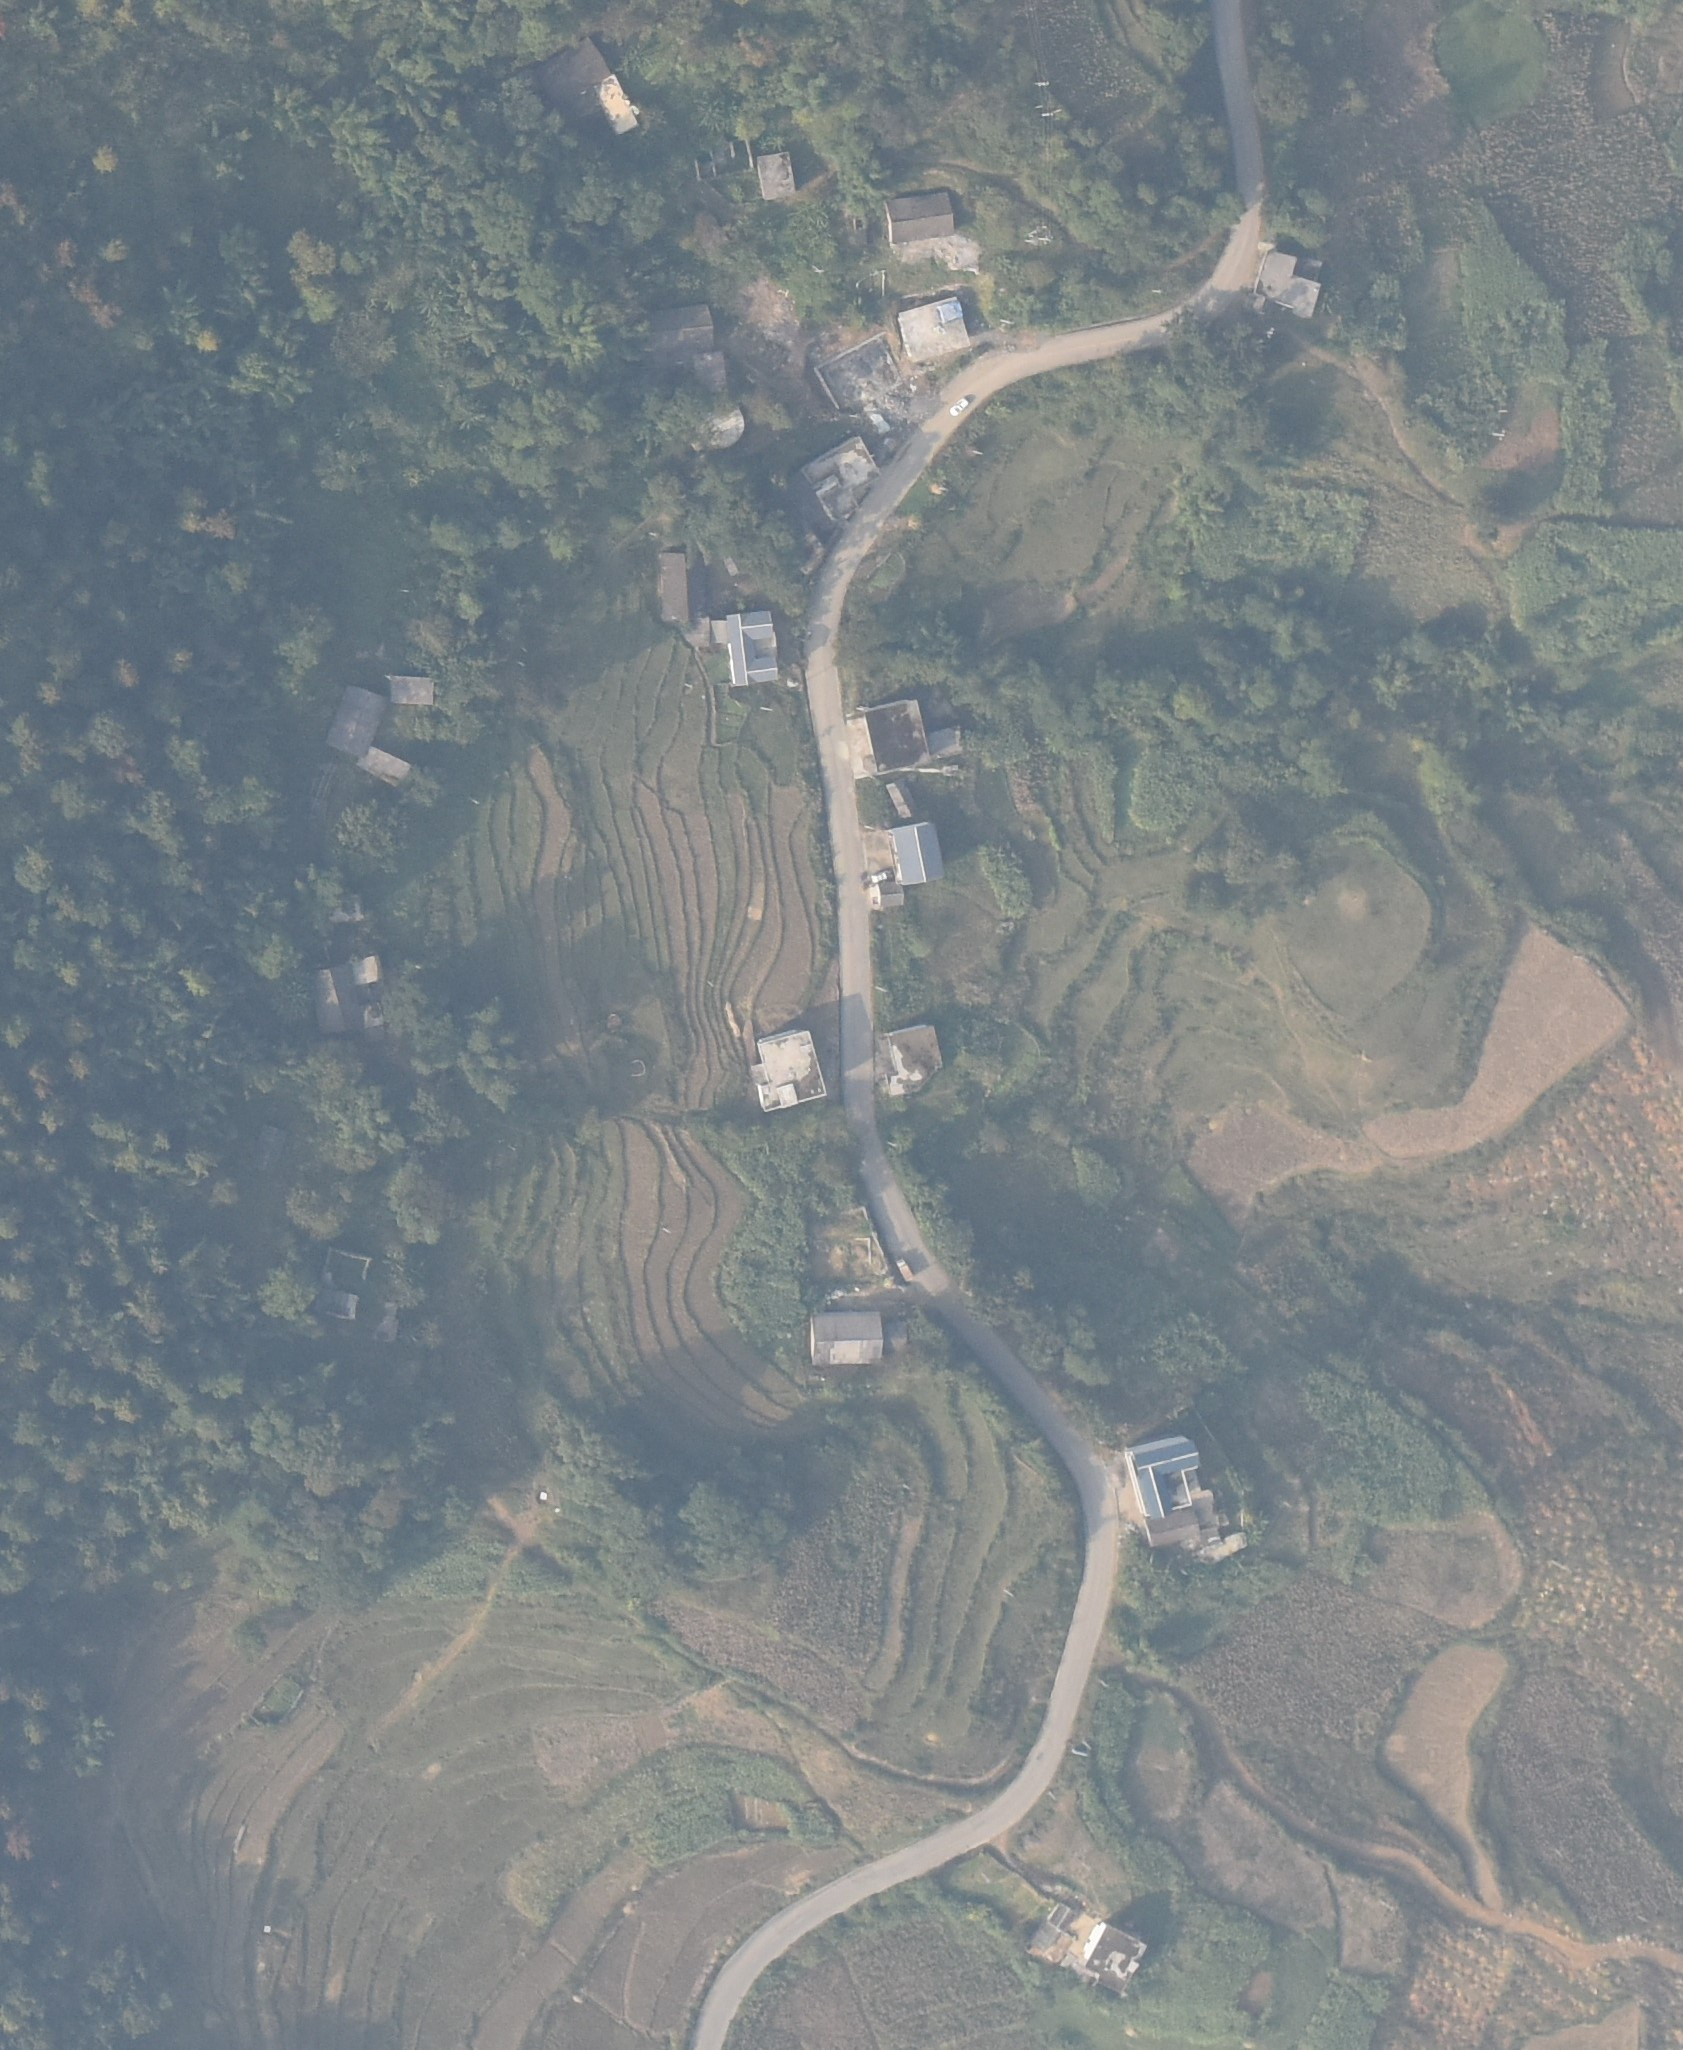building: (799, 432, 888, 536), (847, 696, 931, 778), (1074, 1911, 1145, 2005), (322, 680, 388, 780), (753, 1028, 830, 1113), (1126, 1439, 1201, 1520), (621, 301, 722, 358), (866, 192, 966, 249), (891, 297, 978, 362), (1253, 246, 1324, 321), (804, 1307, 888, 1369), (726, 605, 781, 695), (532, 39, 615, 98), (878, 1023, 944, 1097), (889, 823, 953, 889), (589, 74, 645, 146), (1141, 1504, 1212, 1551), (749, 151, 804, 207), (656, 545, 694, 622), (355, 746, 416, 793), (309, 969, 351, 1035), (384, 672, 442, 707), (881, 778, 924, 820), (346, 953, 388, 993), (864, 881, 911, 915)
vehicle: (892, 1253, 918, 1288), (866, 864, 893, 889), (950, 399, 976, 424)
